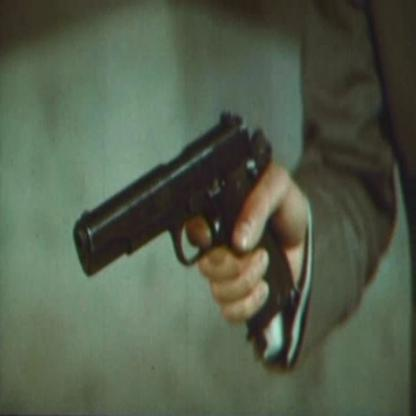gun: (65, 133, 295, 369)
